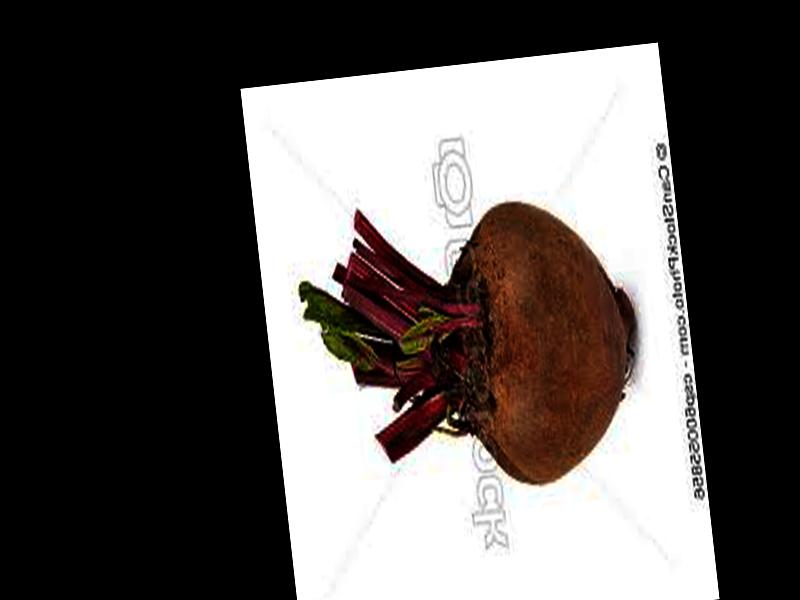Beet: (292, 182, 650, 510)
